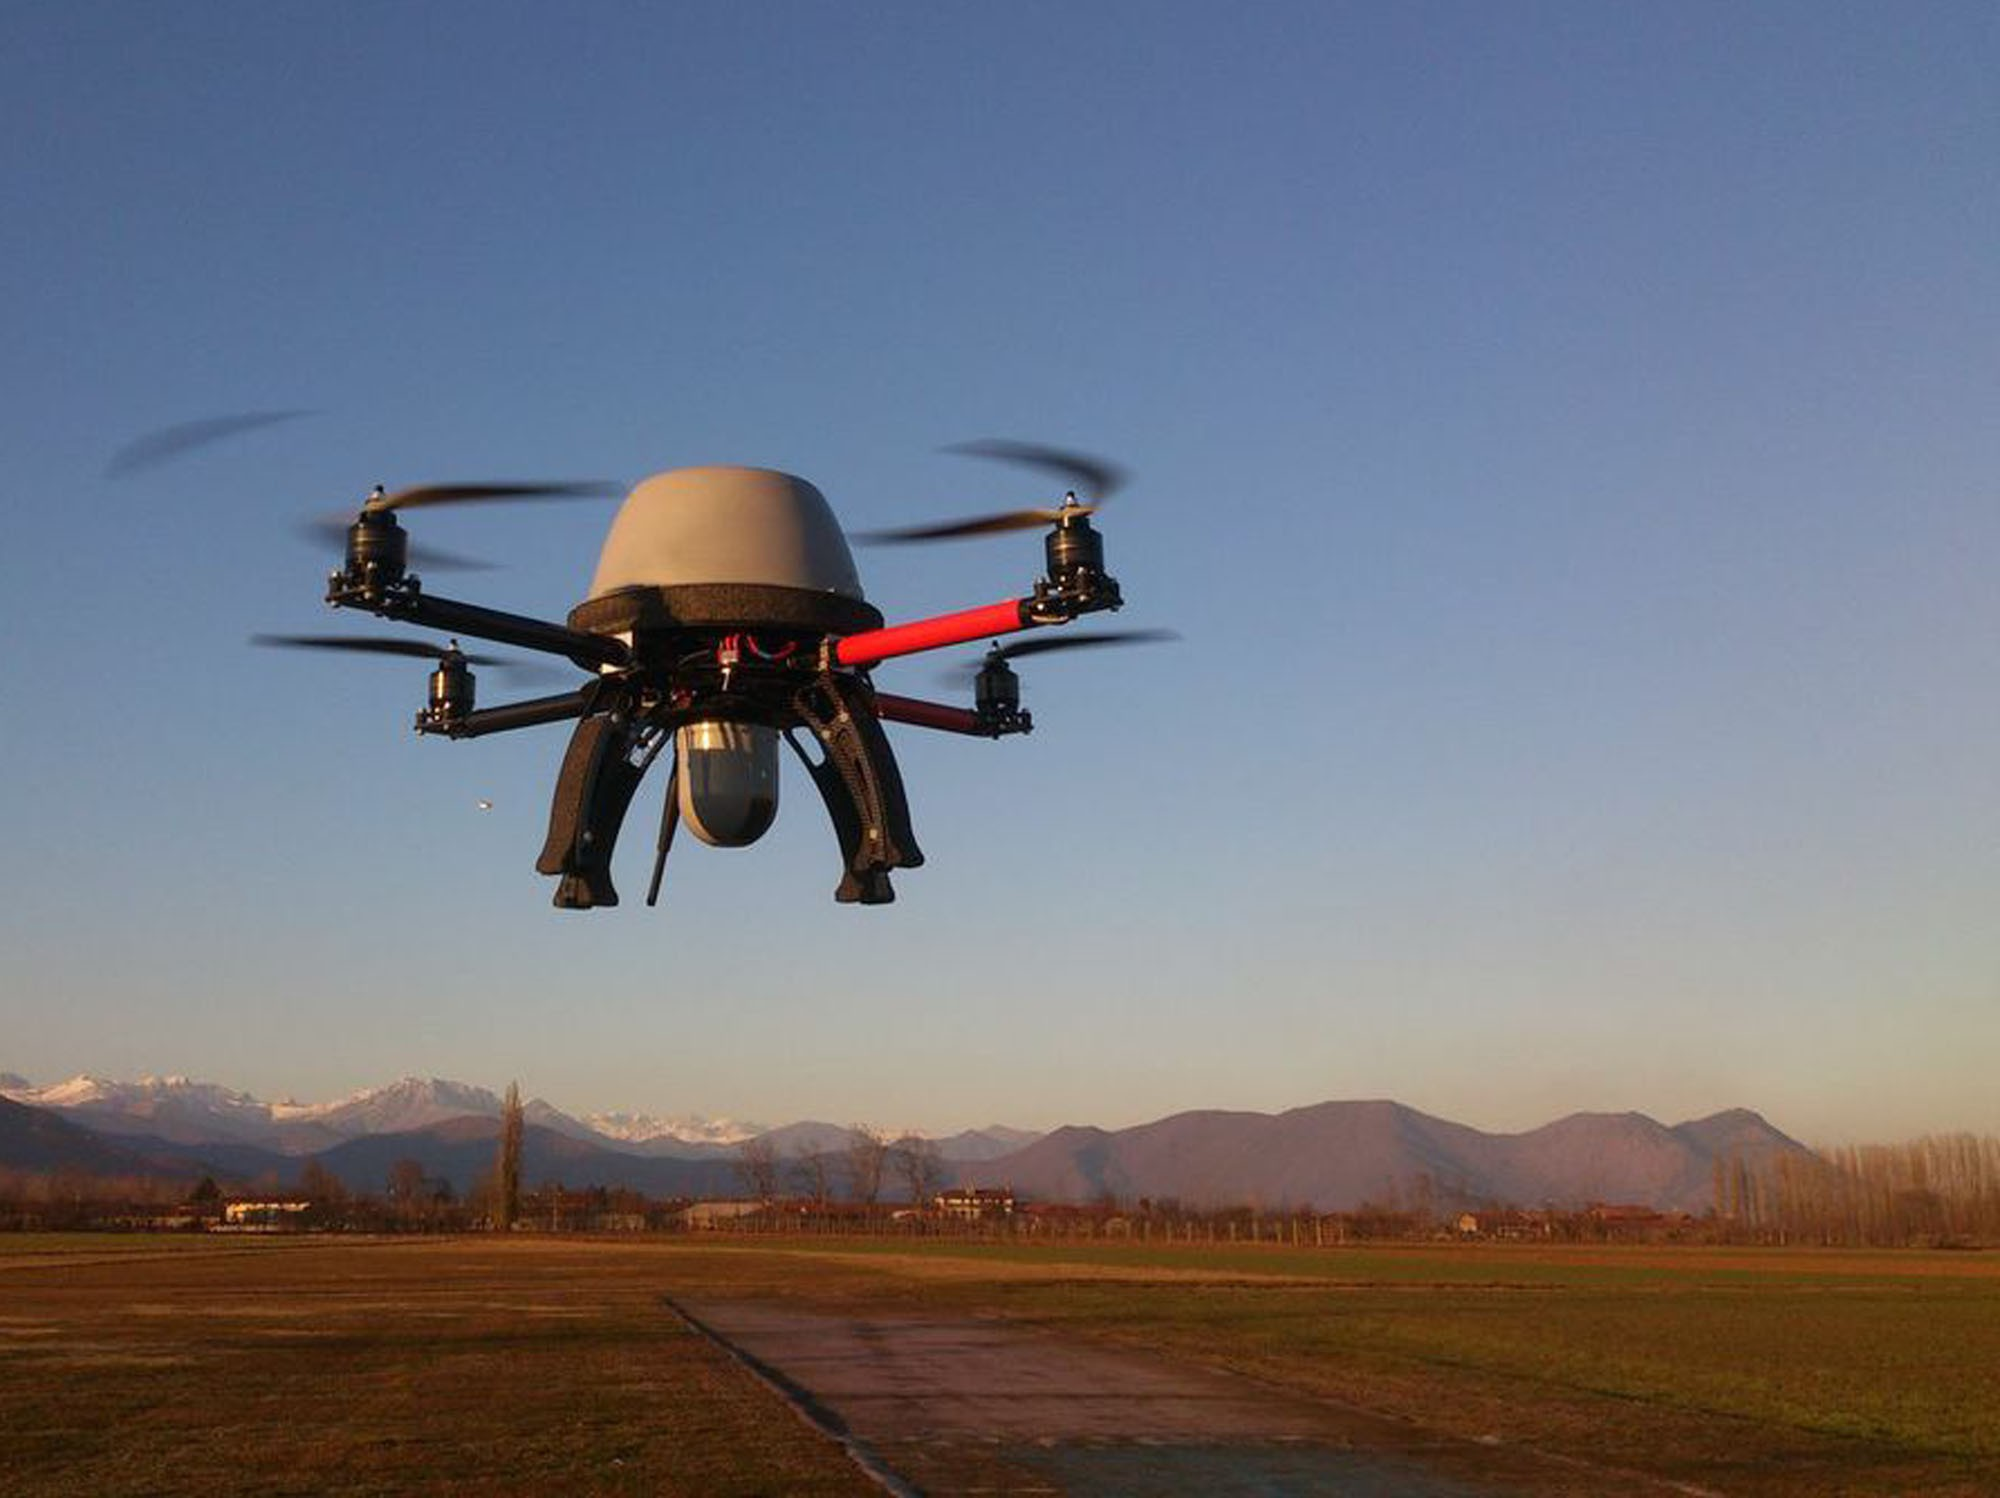drone: (91, 379, 1193, 928)
